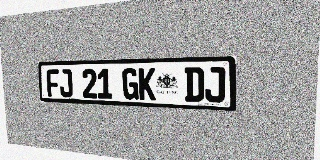1: (96, 68, 112, 99)
2: (82, 69, 97, 98)
D: (185, 67, 204, 102)
F: (46, 69, 60, 97)
G: (122, 68, 139, 100)
J: (205, 67, 225, 103), (59, 69, 73, 97)
K: (138, 68, 156, 100)
